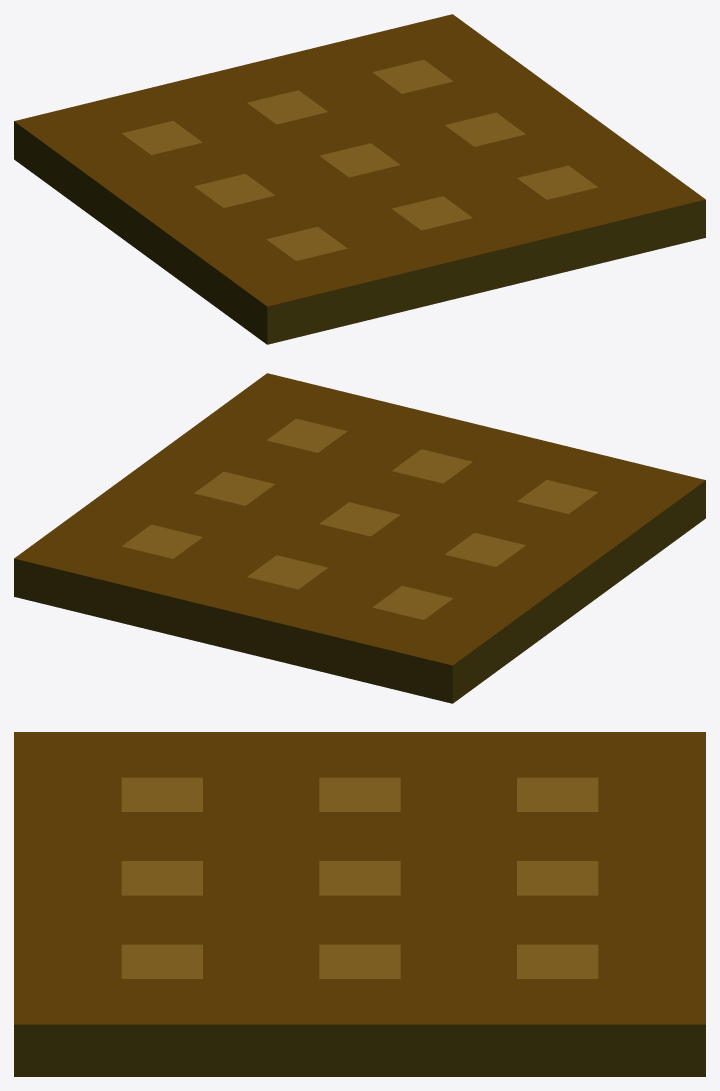
The model's file is checkeredtile2.glb.
3 views of the same model, one above another, from view 1: azimuth 30°, elevation 25°; view 2: azimuth 150°, elevation 25°; view 3: azimuth 270°, elevation 25° (orthographic). The views are drawn at different scales.
Parts seen in each view (by area): view 1: citytiles; view 2: citytiles; view 3: citytiles.
Boxes of the visible parts, <box> form: citytiles: <box>14,14,705,344</box>; citytiles: <box>14,373,705,703</box>; citytiles: <box>14,732,705,1076</box>.
Bounding box in the file's own units: 12 × 1 × 12.
Materials: 1 (1 with a texture image).
